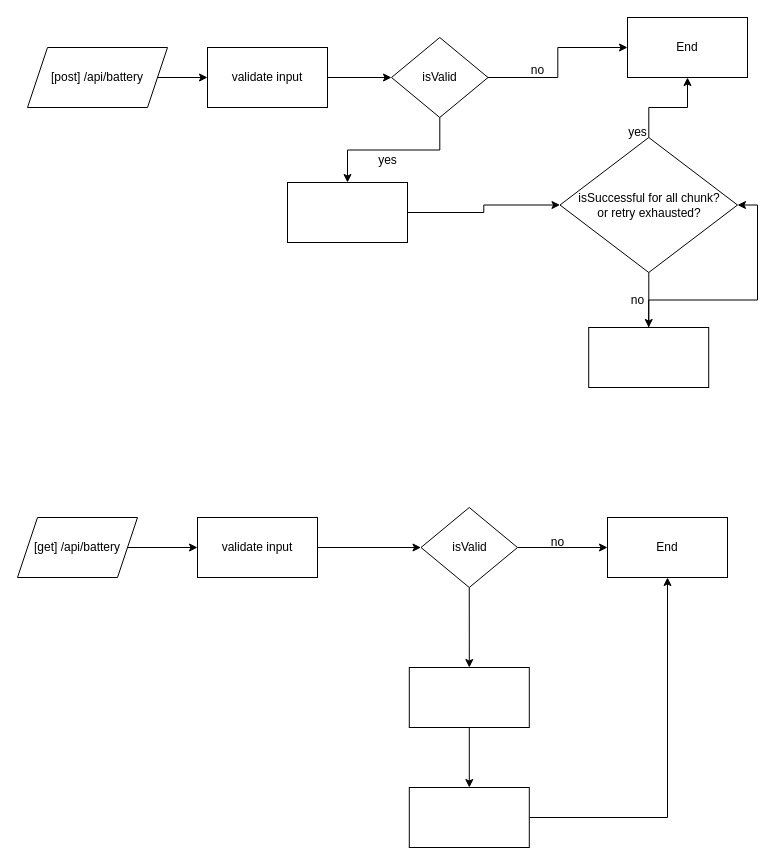
This 783x865 diagram has some shape labels left out. The centre of each missing label's shape, as x and y in pixels:
"calculate statistics & convert to response" goes at (x=468, y=817).
"convert to entity & save db in chunk" goes at (x=347, y=212).
"fetch data from db based on condition" goes at (x=468, y=697).
"Retry 3 times" goes at (x=648, y=357).
